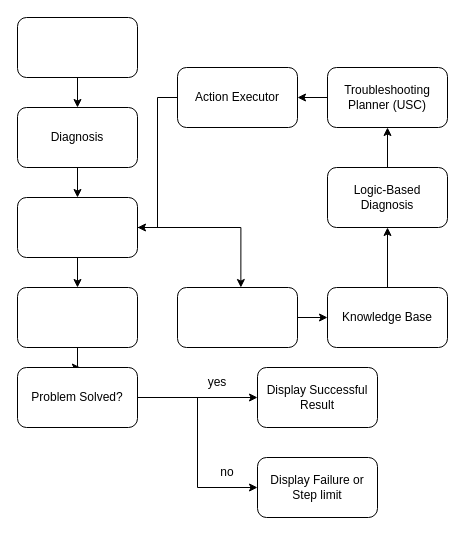
Some shapes in this 465 by 535 pixel diagram are drawn without their labels. The box of each missing label's shape, as (x1, y1, x2, y2) in pixels:
Diagnosis Results: (176, 286, 298, 348)
Simulated Network Enviroment: (16, 196, 138, 258)
User Input: (16, 16, 138, 78)
Verification: (16, 286, 138, 348)
